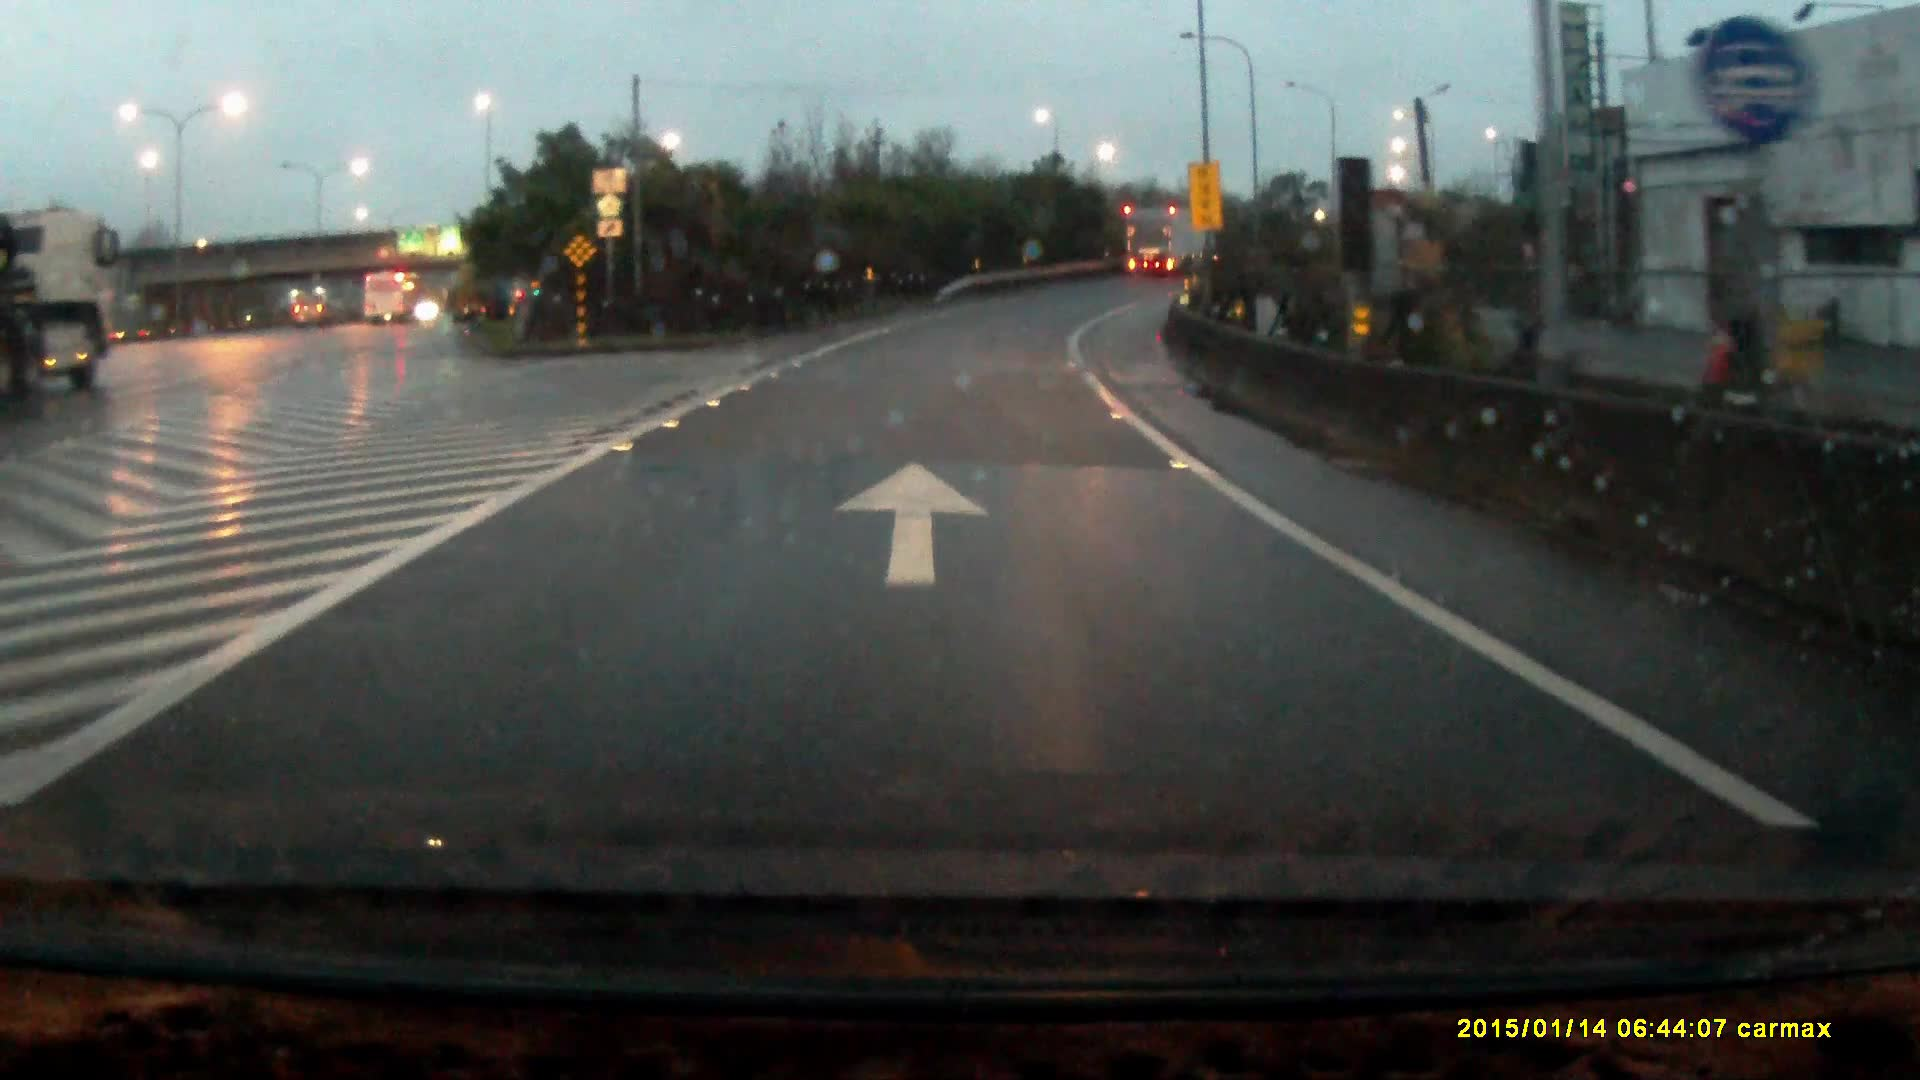vehicle: (1, 208, 125, 401), (1122, 204, 1224, 281), (363, 273, 418, 327), (295, 301, 326, 331)
